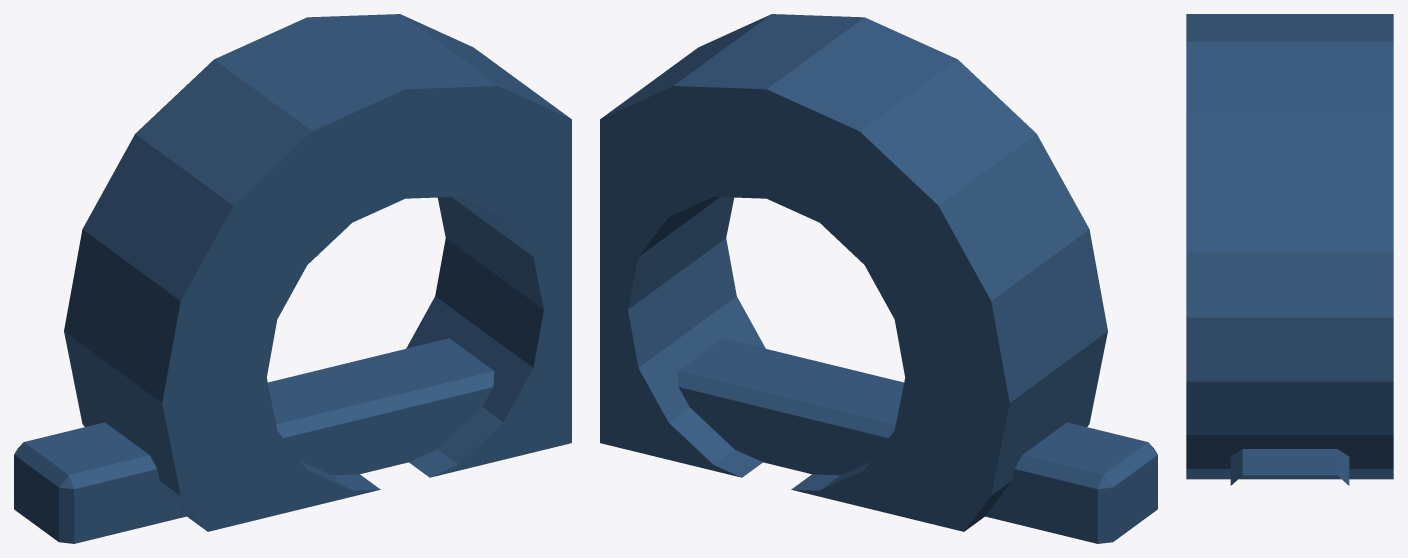
The model's file is cell_53.obj.
The picture shows the model from 3 angles, left to right: view 1: azimuth 30°, elevation 25°; view 2: azimuth 150°, elevation 25°; view 3: azimuth 270°, elevation 25°; orthographic projection. The views are drawn at different scales.
Bounding box in the file's own units: 0.25 × 0.1937 × 0.0875.
